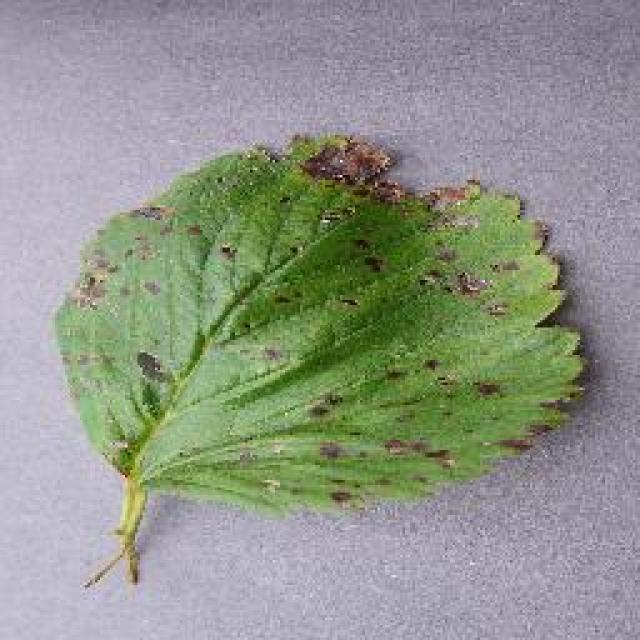Strawberry leaf scorch: (124, 128, 534, 487)
